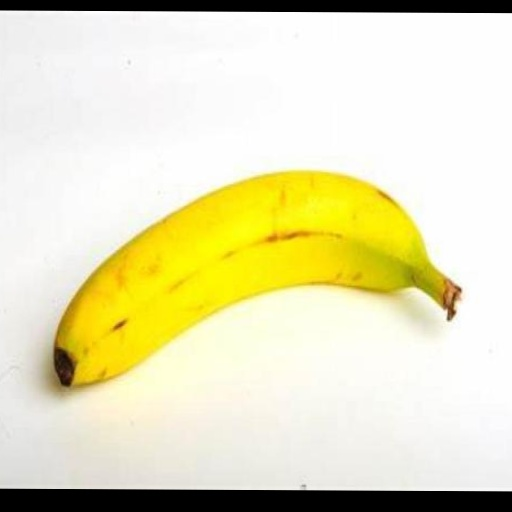fruit: (55, 172, 460, 385)
